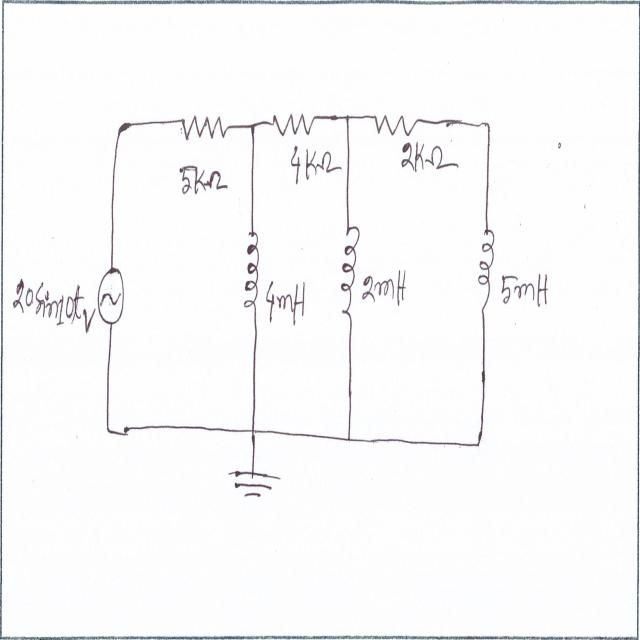ac_current: (97, 268, 125, 332)
ground: (228, 462, 282, 505)
inductor: (339, 220, 362, 327), (241, 227, 263, 316), (476, 228, 497, 316)
resistor: (181, 108, 228, 154), (373, 107, 423, 141), (268, 110, 321, 139)
